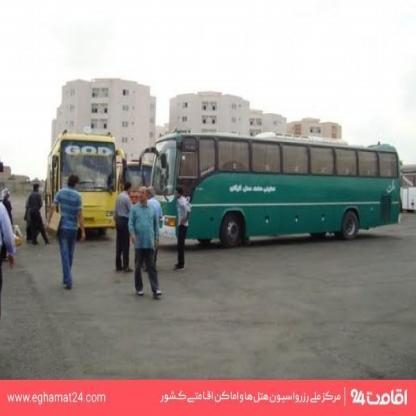Bus: (138, 127, 403, 258), (39, 127, 127, 235)
